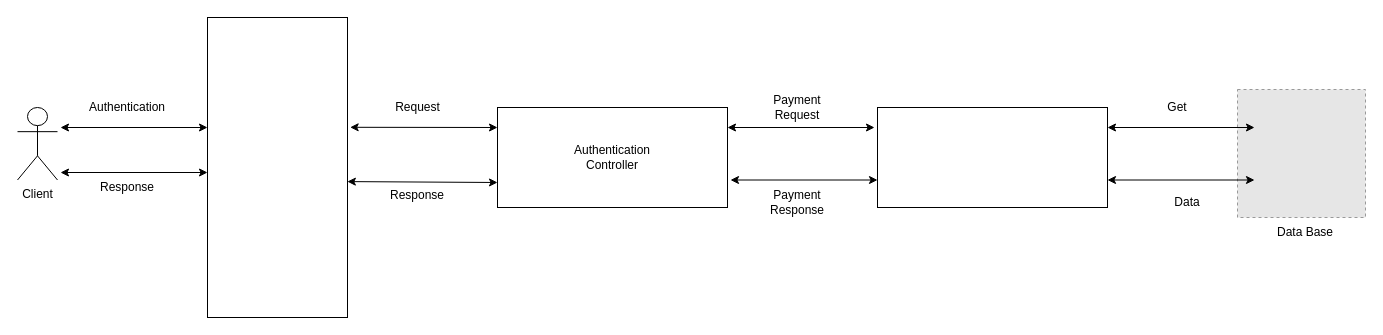
This 1383x335 diagram has some shape labels left out. Grey dashed boxes stand in for pictures. The box of each missing label's shape, as (x1, y1, x2, y2) in pixels:
Payment Service: (876, 106, 1108, 208)
Spring Security: (206, 16, 348, 318)
